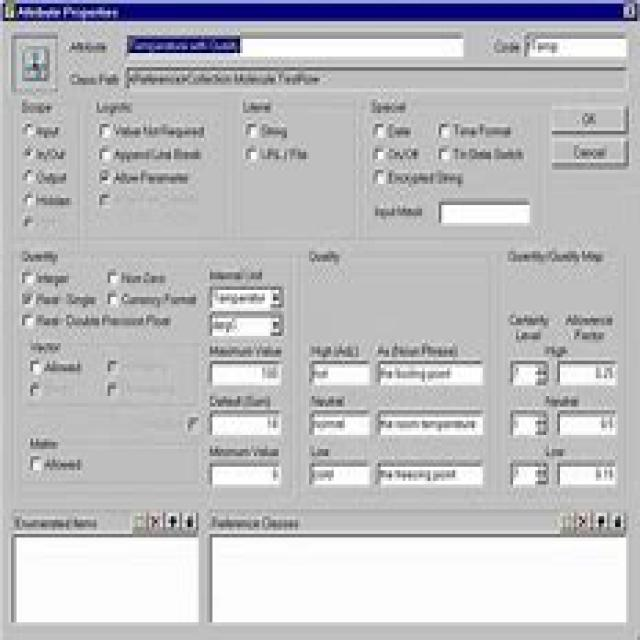button: (547, 136, 632, 168), (550, 106, 630, 135), (556, 510, 576, 530), (576, 508, 594, 530), (610, 508, 629, 528), (593, 508, 609, 530), (130, 511, 148, 530), (166, 509, 181, 531), (149, 509, 164, 530), (622, 1, 638, 20), (184, 509, 199, 529)
checkbox: (186, 414, 202, 436), (98, 144, 112, 165), (243, 146, 258, 165), (29, 454, 44, 472), (21, 312, 35, 330), (20, 290, 34, 308), (244, 122, 258, 140), (106, 382, 121, 398), (106, 359, 121, 375), (98, 169, 112, 186), (98, 124, 112, 140), (29, 358, 42, 375), (99, 192, 113, 207), (107, 291, 120, 307), (20, 269, 33, 285), (29, 379, 41, 396), (107, 271, 120, 286)
dropdownMenu: (206, 282, 284, 310), (208, 314, 285, 336)
icon: (11, 31, 60, 95), (1, 1, 18, 22)
input: (205, 530, 629, 628), (9, 532, 203, 626), (123, 65, 634, 93), (125, 33, 466, 59), (524, 26, 631, 64), (376, 358, 486, 390), (376, 458, 485, 489), (376, 410, 486, 438), (438, 200, 534, 230), (208, 358, 285, 390), (207, 458, 283, 489), (209, 408, 282, 440), (309, 404, 372, 440), (556, 356, 619, 388), (556, 456, 619, 487), (556, 408, 619, 439), (310, 459, 371, 489), (310, 360, 372, 389)
label: (36, 314, 172, 332), (506, 246, 607, 268), (21, 4, 126, 22), (208, 510, 305, 528), (114, 122, 207, 140), (113, 166, 196, 186), (13, 511, 98, 530), (115, 146, 203, 164), (503, 308, 549, 341), (562, 312, 616, 340), (388, 169, 464, 187), (375, 342, 463, 356), (452, 147, 526, 162), (122, 292, 196, 307), (35, 292, 98, 308), (453, 123, 516, 138), (208, 344, 283, 356), (208, 444, 280, 456), (260, 146, 308, 164), (309, 342, 362, 358), (68, 71, 119, 87), (374, 202, 422, 218), (370, 97, 409, 116), (94, 100, 136, 117), (122, 271, 169, 286), (209, 394, 273, 405), (207, 268, 264, 280), (36, 168, 70, 188), (492, 36, 522, 58), (22, 250, 62, 266), (44, 457, 86, 472), (35, 192, 73, 208), (44, 359, 84, 374), (306, 248, 343, 264), (259, 122, 290, 141), (240, 98, 276, 114), (66, 41, 110, 54), (34, 270, 74, 284), (20, 98, 54, 114), (386, 146, 421, 161), (36, 146, 67, 162), (386, 122, 412, 140), (29, 340, 62, 354), (29, 437, 61, 451), (545, 393, 582, 405), (308, 393, 347, 403), (36, 126, 63, 140), (308, 443, 332, 457), (542, 344, 570, 356), (543, 444, 569, 454)
radio: (371, 144, 386, 163), (372, 168, 386, 188), (438, 145, 451, 165), (438, 122, 451, 142), (21, 214, 36, 231), (22, 168, 36, 186), (21, 190, 34, 208), (372, 122, 386, 138), (23, 144, 35, 162), (22, 122, 34, 138)
upDown: (507, 356, 550, 387), (510, 408, 549, 438), (509, 459, 549, 488)
